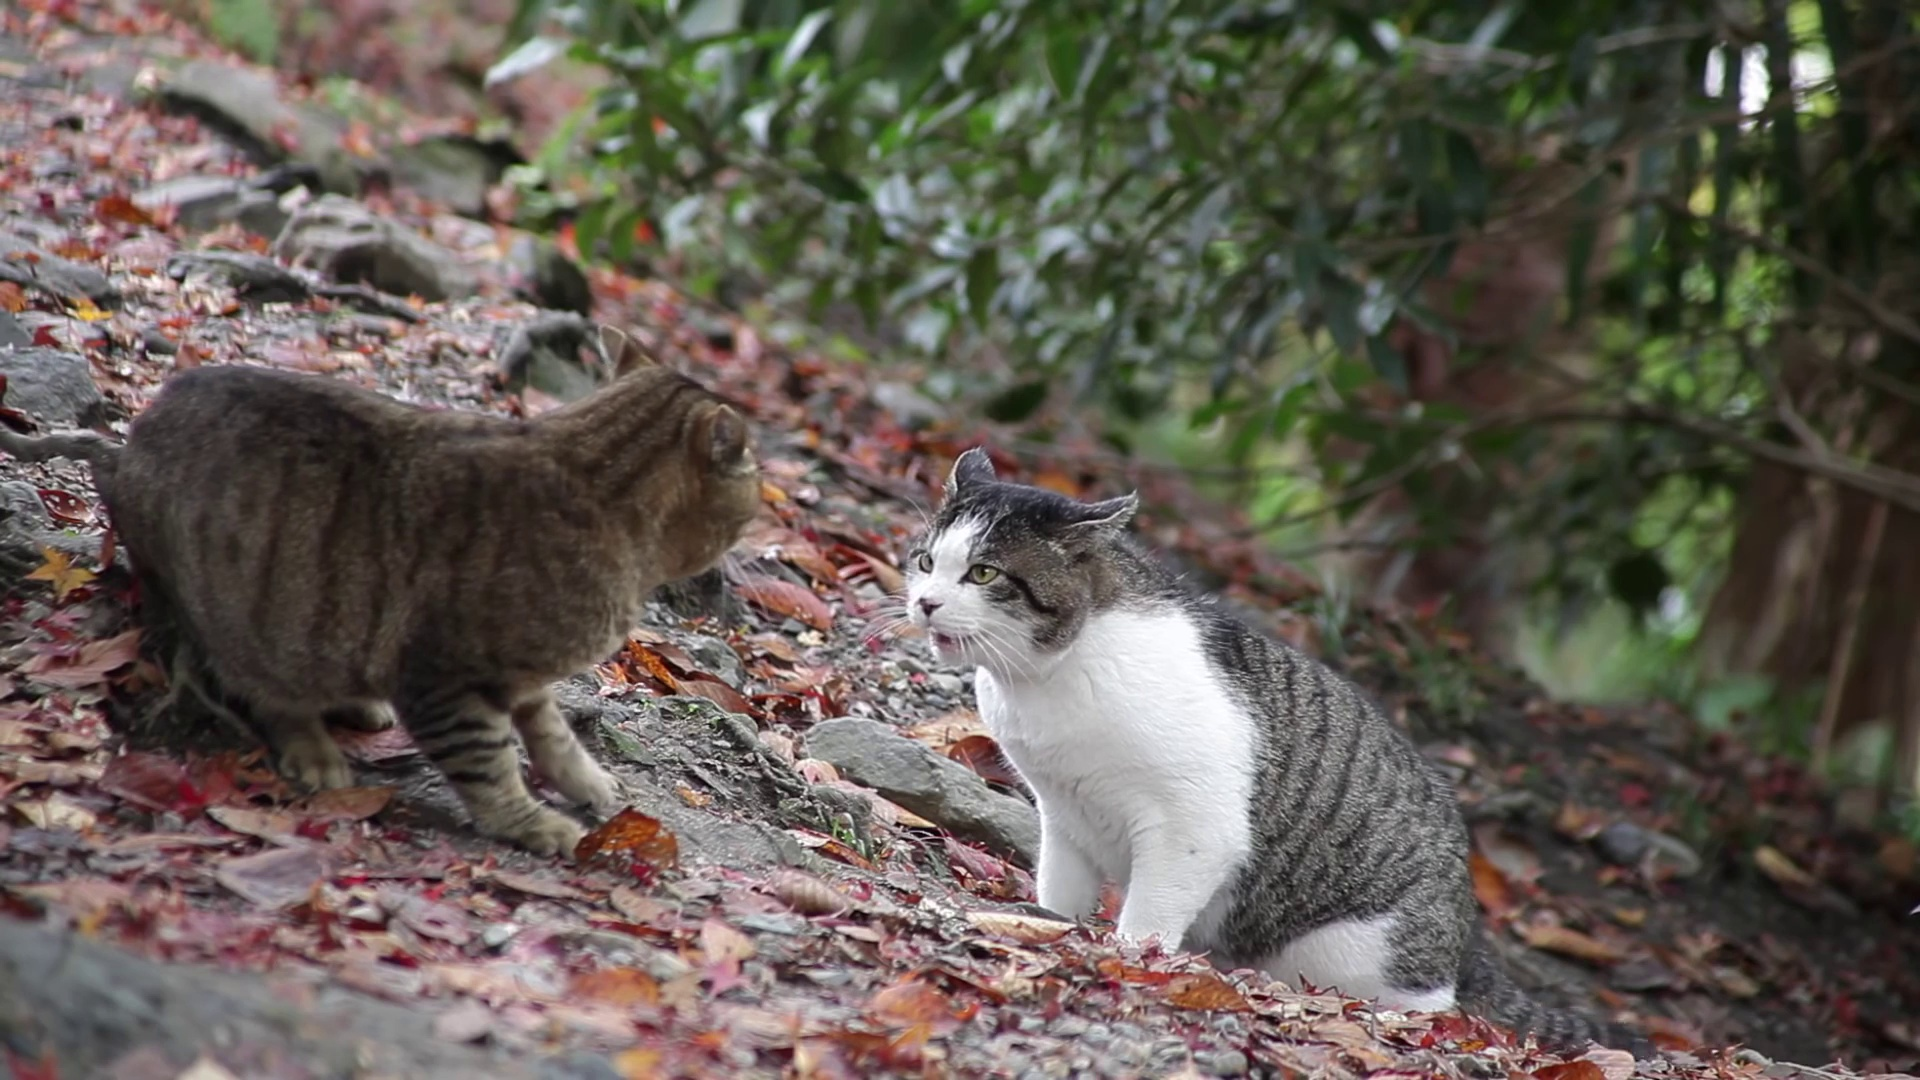black-white: (907, 446, 1466, 1009)
pure black: (111, 324, 756, 855)
